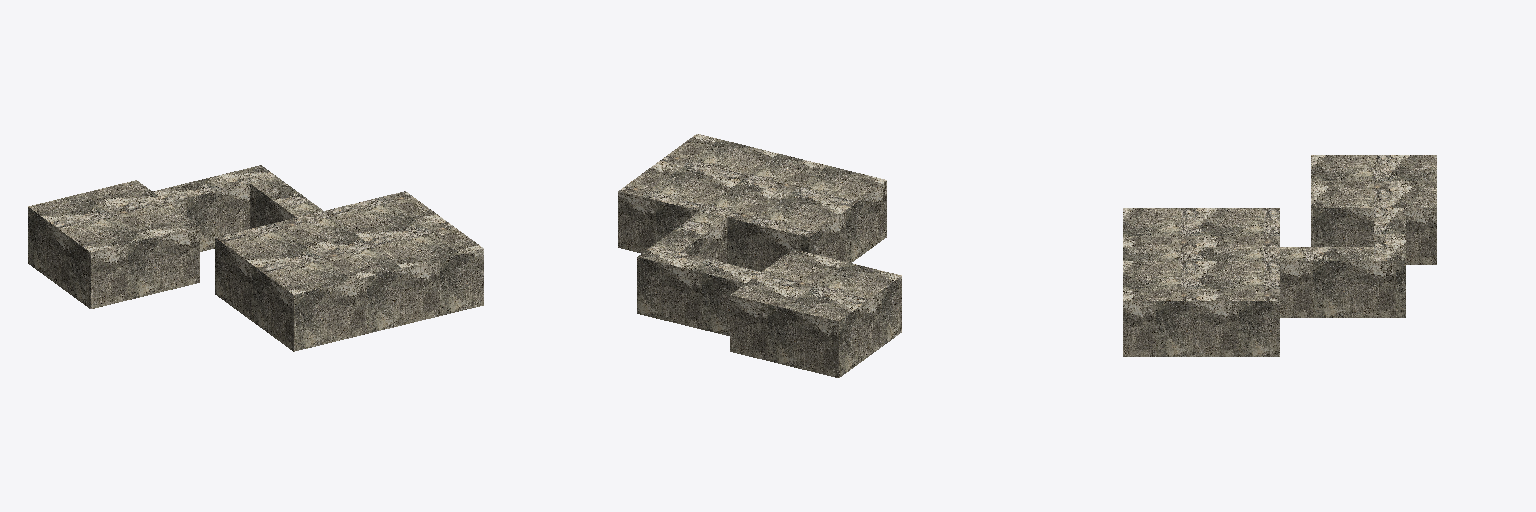
3 views of the same model, side by side, from view 1: azimuth 30°, elevation 25°; view 2: azimuth 150°, elevation 25°; view 3: azimuth 270°, elevation 25° (orthographic).
Visible parts, largest first — view 1: TestRoom; view 2: TestRoom; view 3: TestRoom.
Boxes of the visible parts, box(x1,y1,x2,y2) form: TestRoom: box(28, 165, 483, 351); TestRoom: box(618, 134, 901, 377); TestRoom: box(1123, 155, 1436, 356).
Bounding box in the file's own units: 27.5 × 5 × 25.
Materials: 2 (2 with a texture image).